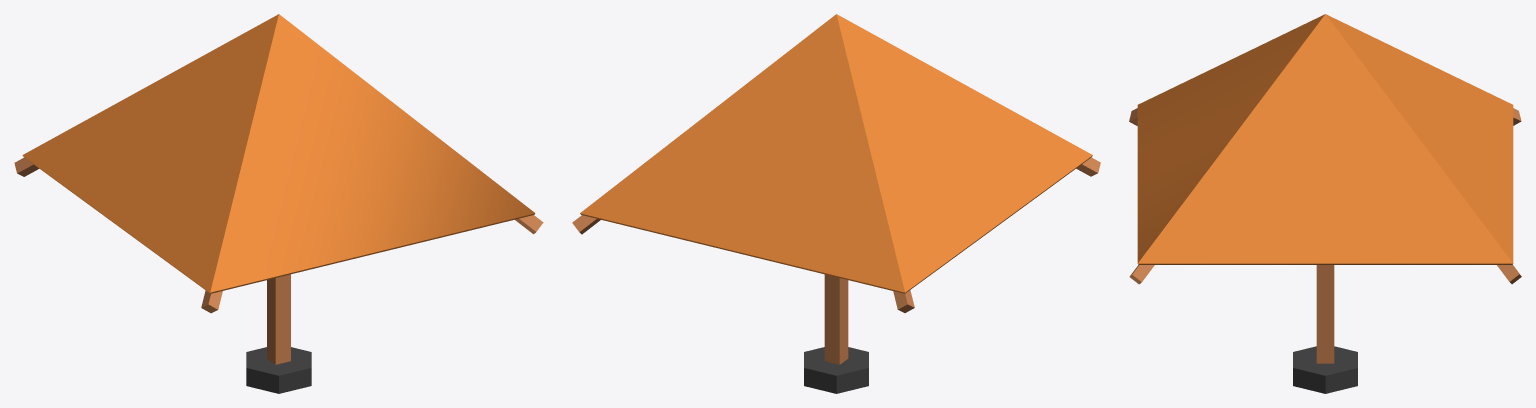
The model's file is shade_orange.fbx.
The picture shows the model from 3 angles, left to right: view 1: azimuth 30°, elevation 25°; view 2: azimuth 150°, elevation 25°; view 3: azimuth 270°, elevation 25°; orthographic projection.
Visible parts, largest first — view 1: Box326, Box327; view 2: Box326, Box327; view 3: Box326, Box327.
Boxes of the visible parts, <box> form: Box326: <box>14,14,543,313</box>; Box327: <box>246,274,311,393</box>; Box326: <box>572,14,1100,312</box>; Box327: <box>804,274,868,393</box>; Box326: <box>1129,14,1521,284</box>; Box327: <box>1293,265,1357,393</box>.
Size of the model in its own units: 314 by 321 by 314.
1 material, 1 textured.
